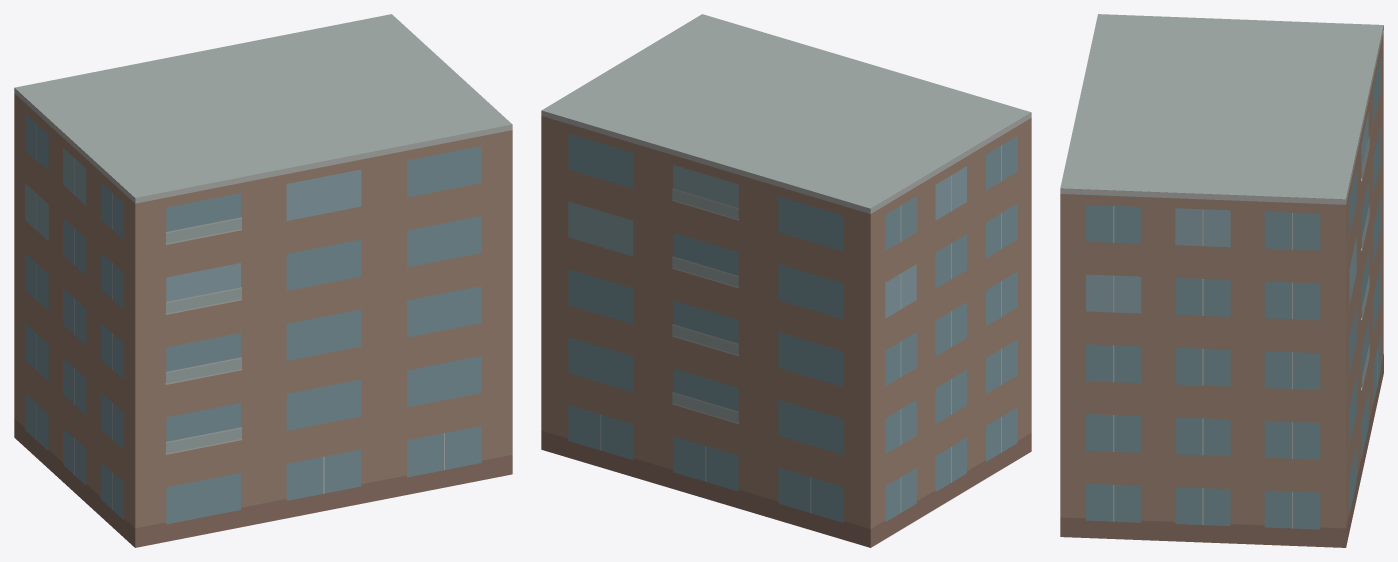
File: survey-upis-32962353.glb
The picture shows the model from 3 angles, left to right: view 1: azimuth 30°, elevation 25°; view 2: azimuth 150°, elevation 25°; view 3: azimuth 270°, elevation 25°; orthographic projection. The views are drawn at different scales.
Visible parts, largest first — view 1: survey-upis-32962353.tmp; view 2: survey-upis-32962353.tmp; view 3: survey-upis-32962353.tmp.
Part boxes in pixels (bbox=[...]): survey-upis-32962353.tmp: bbox=[14, 14, 512, 547]; survey-upis-32962353.tmp: bbox=[541, 14, 1031, 547]; survey-upis-32962353.tmp: bbox=[1060, 14, 1383, 547].
Bounding box in the file's own units: 17.39 × 15.25 × 12.83.
